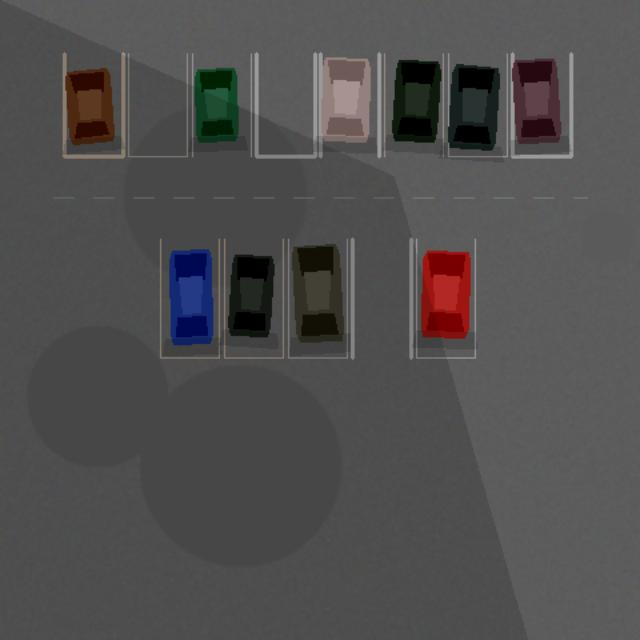space-empty: (352, 239, 411, 357), (128, 53, 187, 156), (256, 53, 315, 156)
space-occupied: (160, 239, 219, 357), (224, 239, 283, 357), (288, 239, 347, 357), (416, 239, 475, 357), (64, 53, 123, 156), (192, 53, 251, 156), (320, 53, 379, 156), (384, 53, 443, 156), (448, 53, 507, 156), (512, 53, 571, 156)
